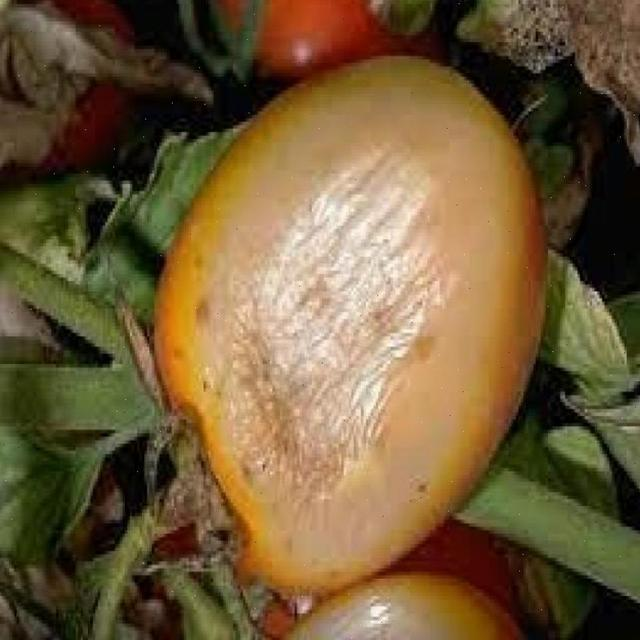Sunscald Fruit: (129, 49, 355, 390)
